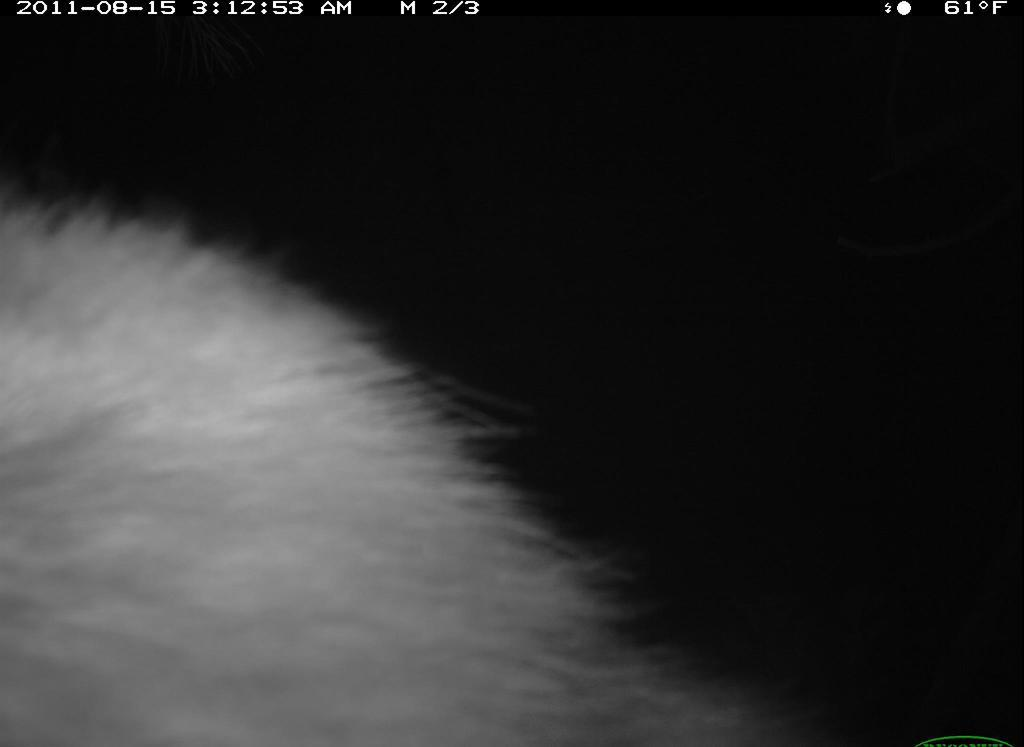raccoon: (4, 148, 831, 743)
